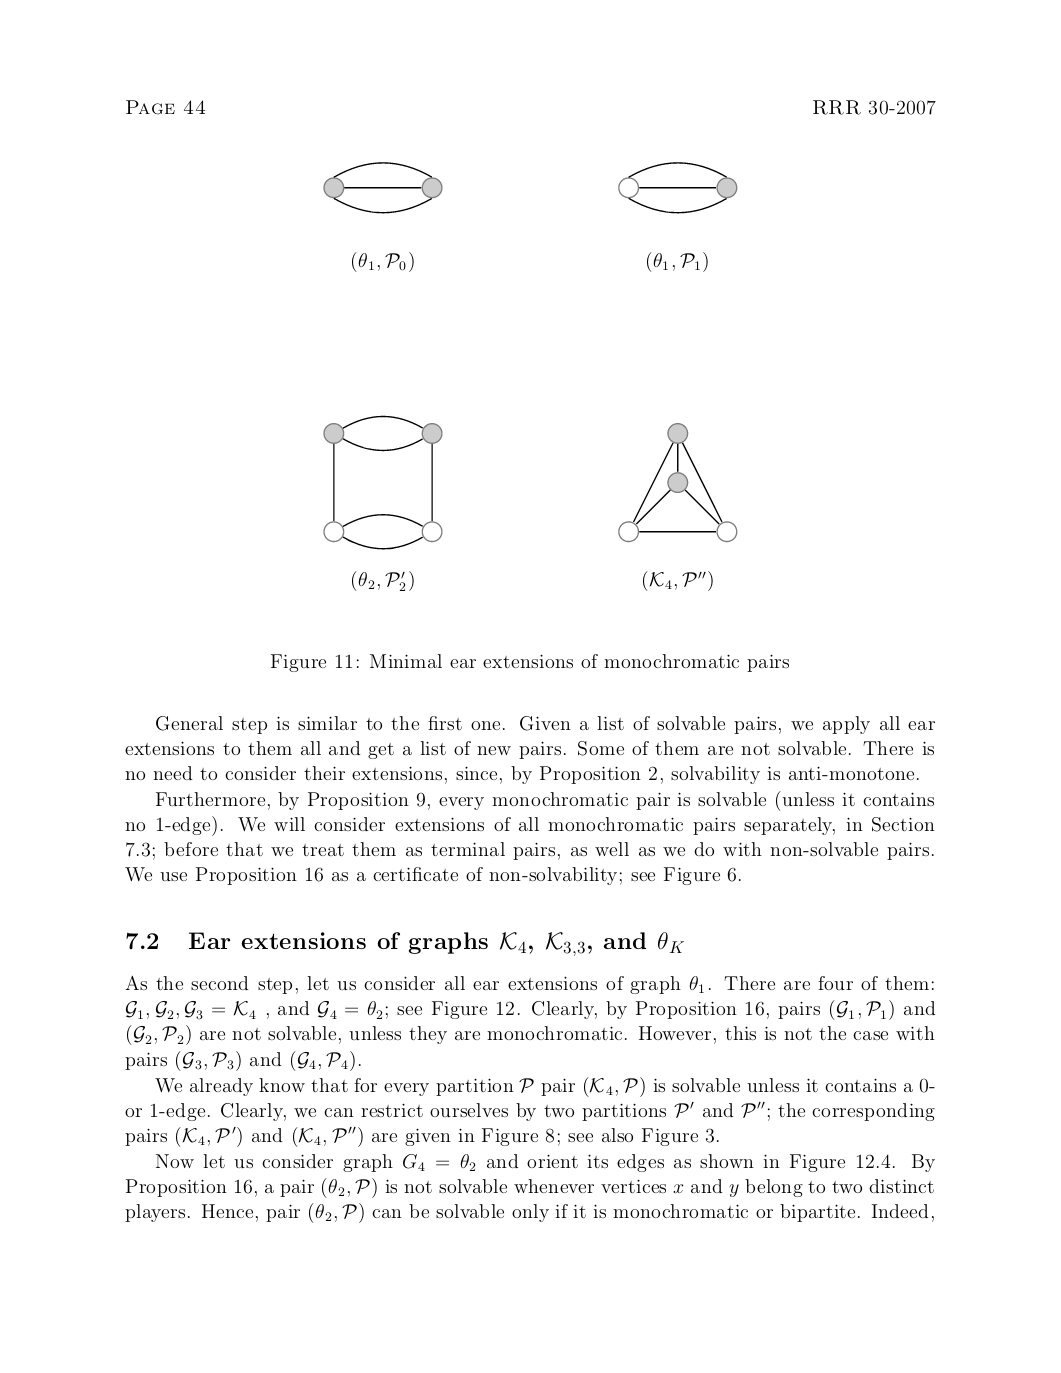figure: (323, 413, 442, 551), (619, 422, 737, 543), (323, 160, 442, 214), (619, 160, 737, 214)
